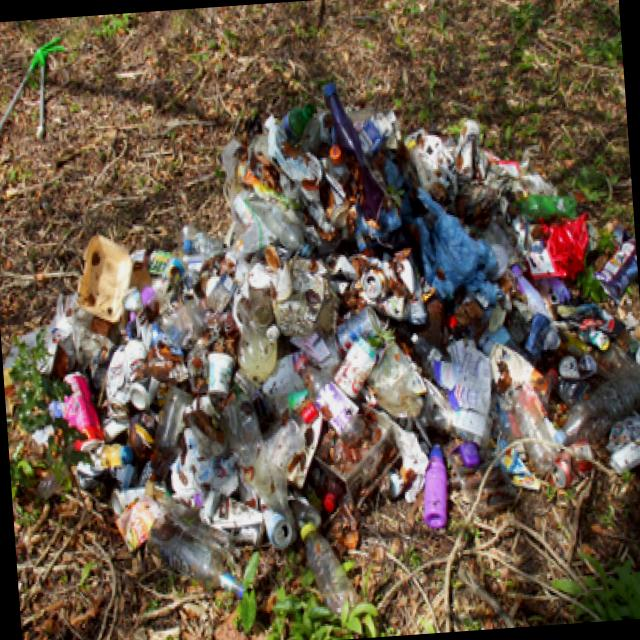garbage: (5, 53, 640, 640)
